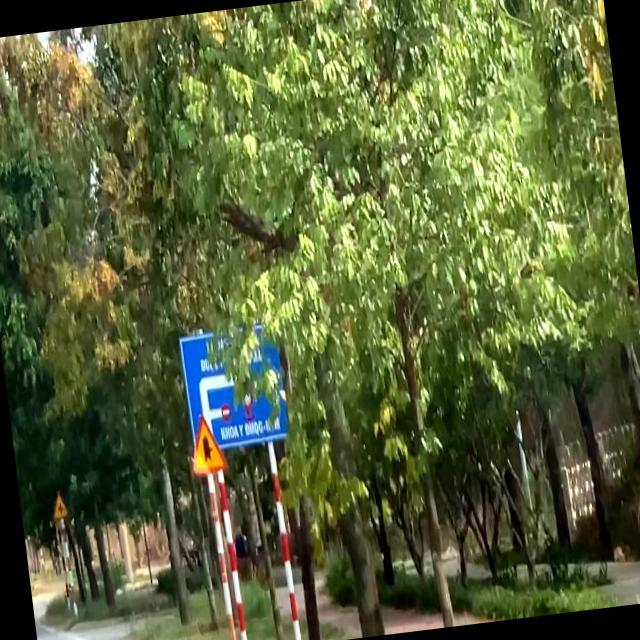W-207b: (186, 412, 227, 476)
